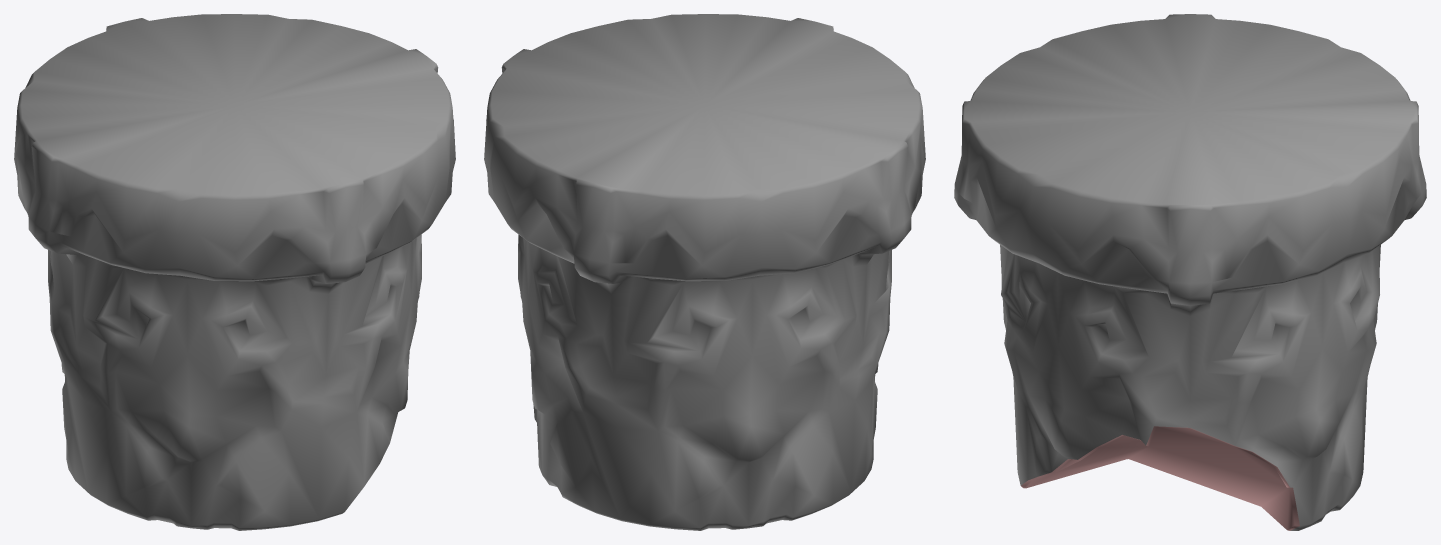
The model's file is RuineBroken5.FBX.
The picture shows the model from 3 angles, left to right: view 1: azimuth 30°, elevation 25°; view 2: azimuth 150°, elevation 25°; view 3: azimuth 270°, elevation 25°; orthographic projection. The views are drawn at different scales.
Parts seen in each view (by area): view 1: Ruine5; view 2: Ruine5; view 3: Ruine5.
Boxes of the visible parts, <box> form: Ruine5: <box>14,14,455,530</box>; Ruine5: <box>484,14,925,530</box>; Ruine5: <box>954,14,1426,530</box>.
Size of the model in its own units: 152 by 130 by 152.
